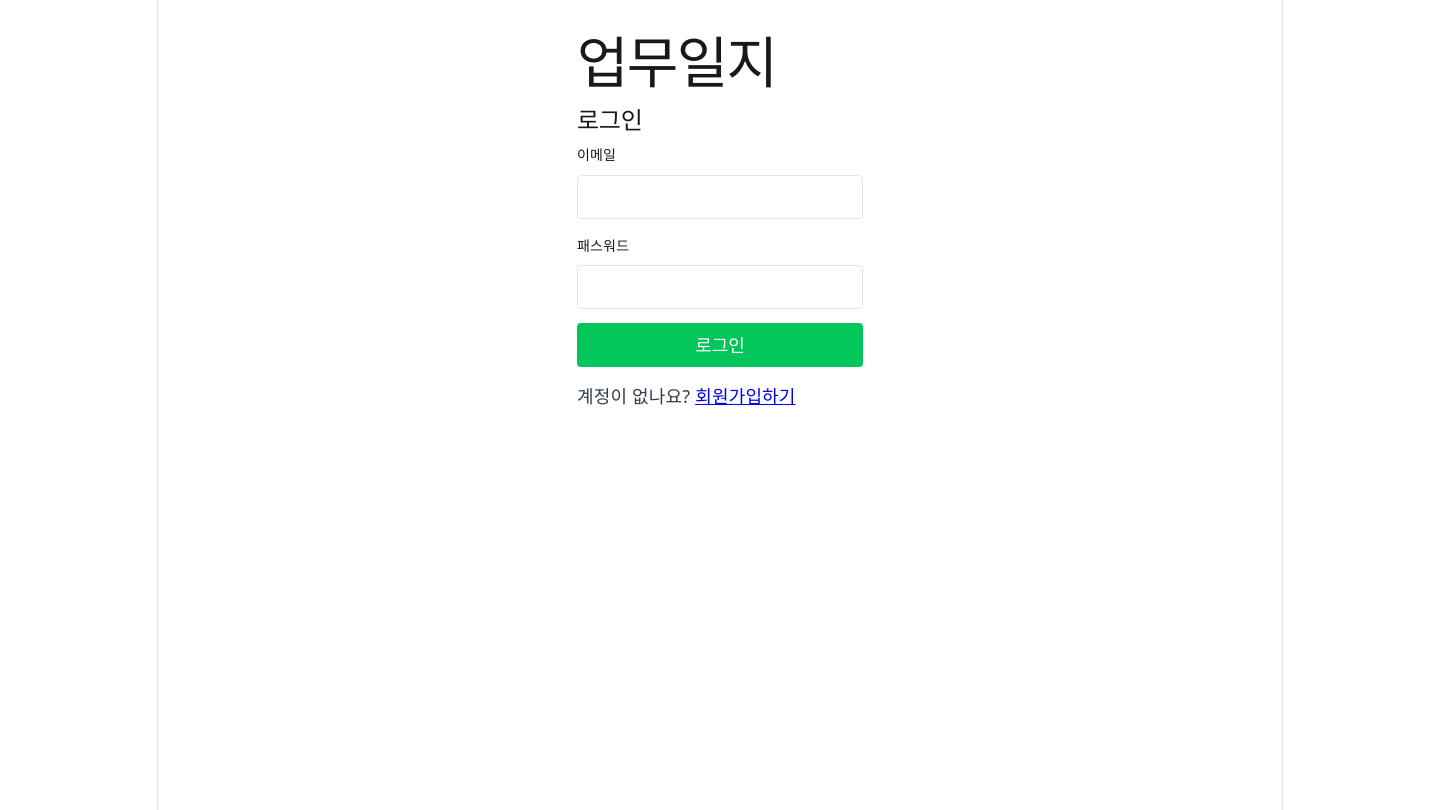
it: LoginPage › 401 에러 발생 시 alert 영역에 에러 메시지가 노출된다
In the field labelled "이메일": (720, 196) top-left (577, 174), bottom-right (863, 218), type "hong@test.com"
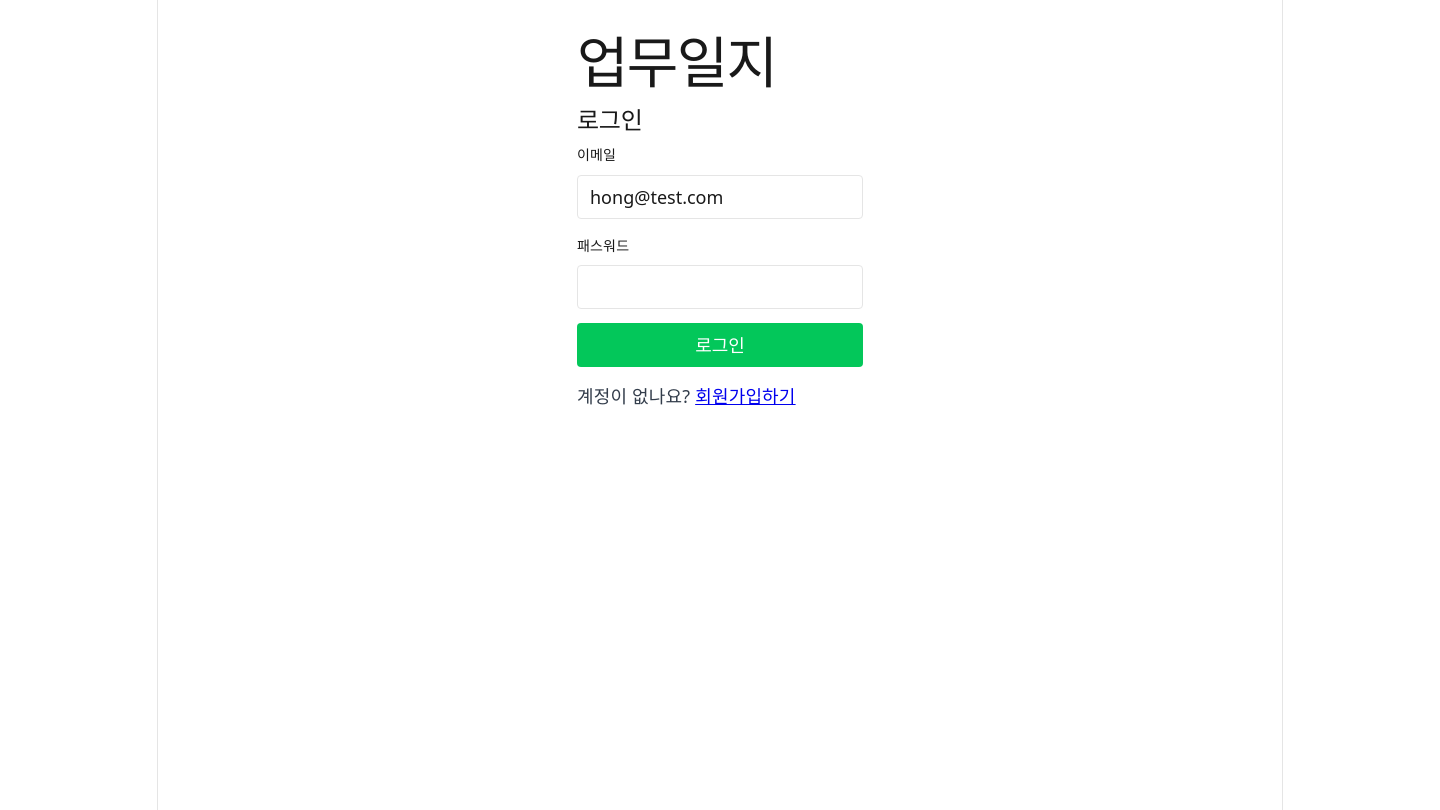
In the password field labelled "패스워드": (720, 287) top-left (577, 265), bottom-right (863, 309), type "password123"
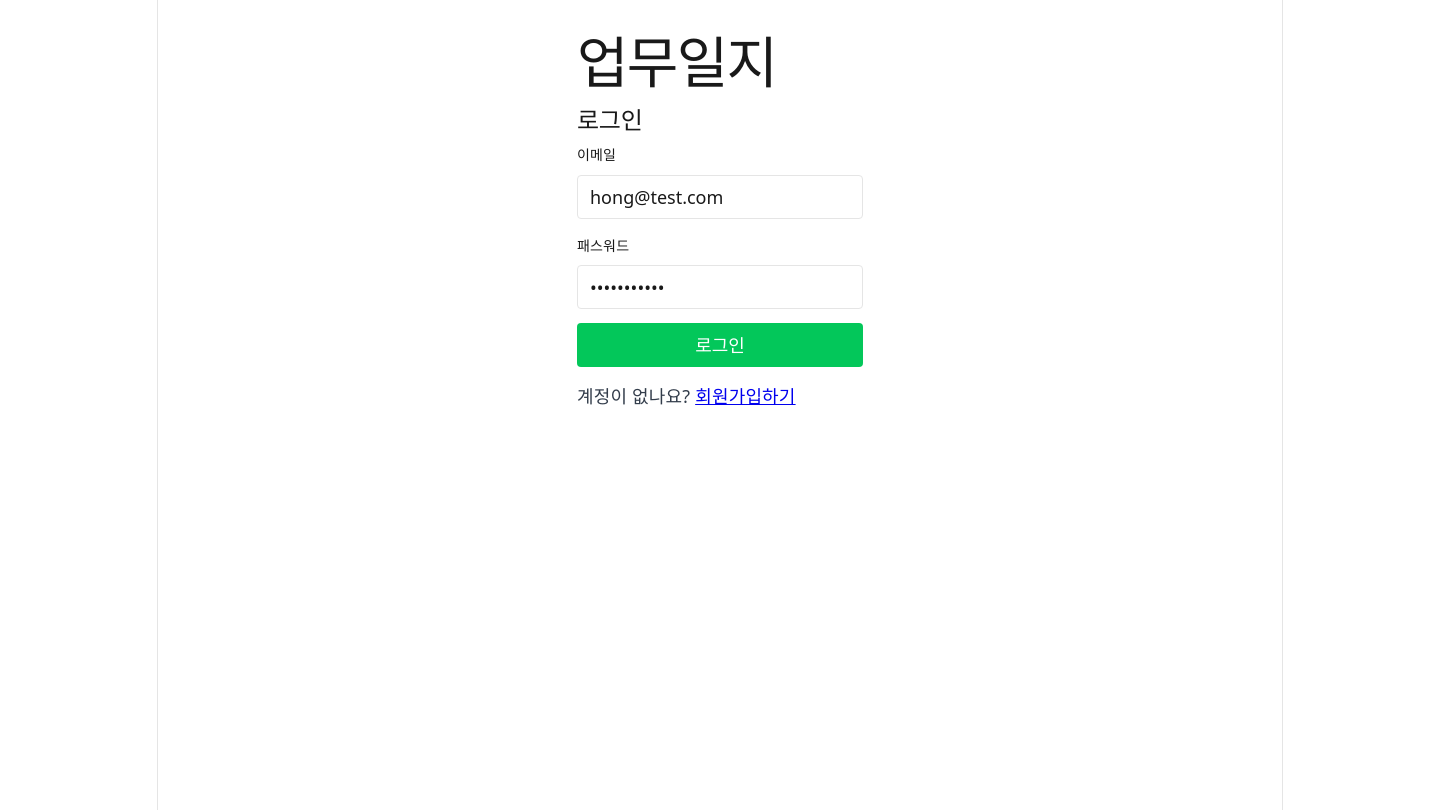
Click the button "로그인": (720, 345) top-left (577, 323), bottom-right (863, 367)
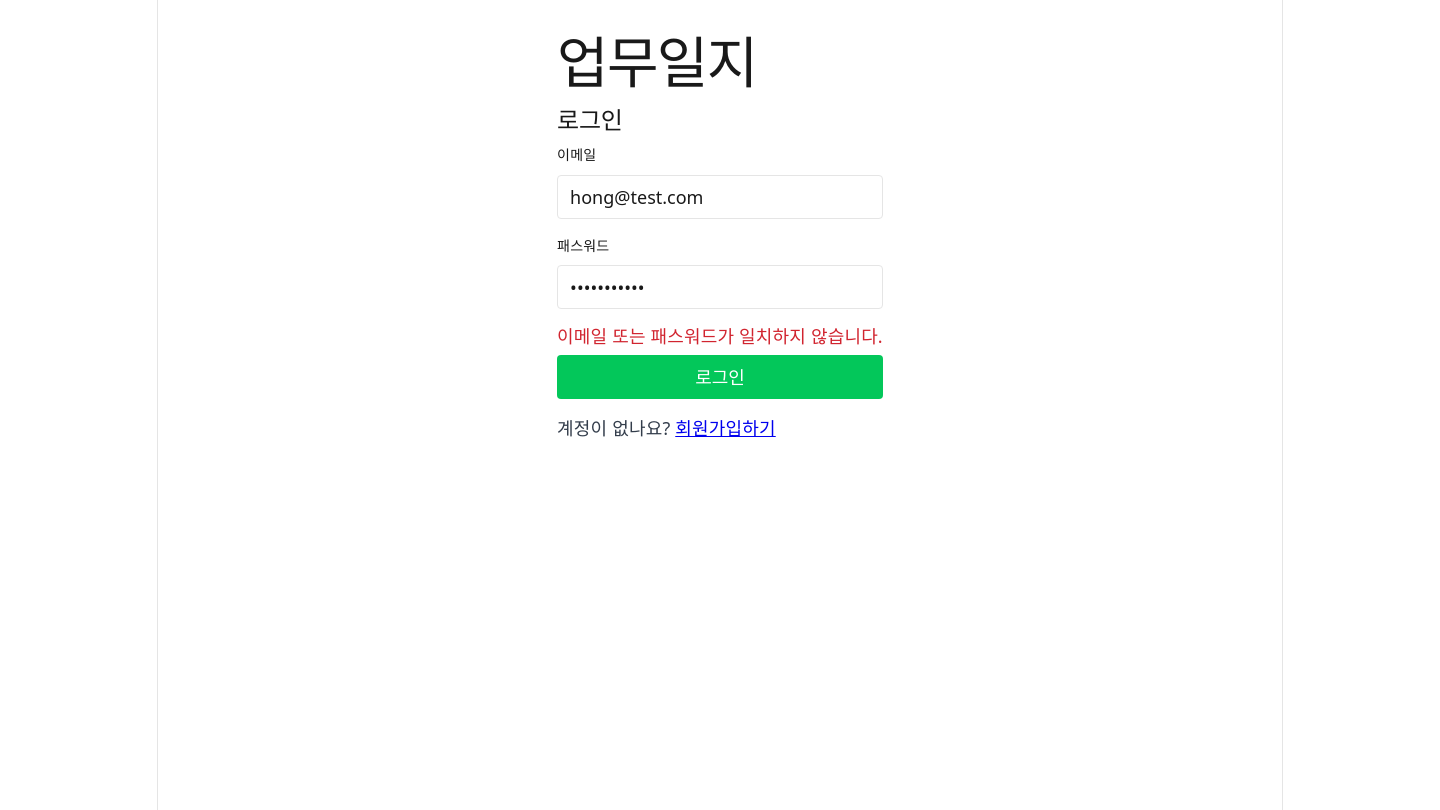
Now the message reads "이메일 또는 패스워드가 일치하지 않습니다.", box top-left (557, 324), bottom-right (883, 348)
